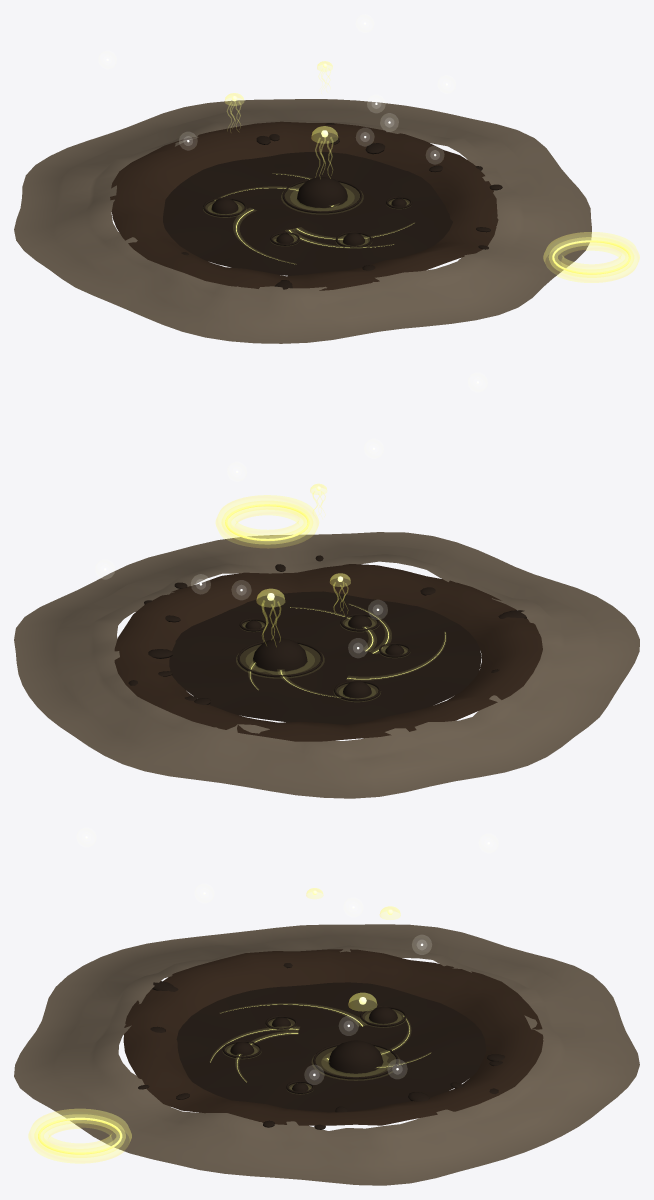
Rendered from mudpit_burbler.glb.
3 views of the same model, one above another, from view 1: azimuth 30°, elevation 25°; view 2: azimuth 150°, elevation 25°; view 3: azimuth 270°, elevation 25° (orthographic). The views are drawn at different scales.
Visible parts, largest first — view 1: Burbler_Apron, Burbler_Pool, Burbler_Rim, Burbler_Outlet_0_Ring2, Burbler_Outlet_0_Ring1, Burbler_Bubble_0_Dome, Burbler_Outlet_0_Ring0; view 2: Burbler_Apron, Burbler_Pool, Burbler_Rim, Burbler_Outlet_0_Ring2, Burbler_Outlet_0_Ring1, Burbler_Bubble_0_Dome; view 3: Burbler_Apron, Burbler_Pool, Burbler_Rim, Burbler_Outlet_0_Ring2, Burbler_Outlet_0_Ring1, Burbler_Bubble_0_Dome, Burbler_Outlet_0_Ring0.
Part boxes in pixels (left/top/right/bottom): Burbler_Apron: left=14, top=99, right=591, bottom=343; Burbler_Pool: left=163, top=152, right=452, bottom=275; Burbler_Rim: left=110, top=121, right=498, bottom=290; Burbler_Outlet_0_Ring2: left=543, top=232, right=639, bottom=282; Burbler_Outlet_0_Ring1: left=549, top=237, right=633, bottom=277; Burbler_Bubble_0_Dome: left=296, top=177, right=347, bottom=209; Burbler_Outlet_0_Ring0: left=552, top=240, right=630, bottom=274; Burbler_Apron: left=14, top=532, right=639, bottom=798; Burbler_Pool: left=169, top=591, right=481, bottom=724; Burbler_Rim: left=114, top=564, right=542, bottom=741; Burbler_Outlet_0_Ring2: left=215, top=495, right=318, bottom=547; Burbler_Outlet_0_Ring1: left=221, top=501, right=312, bottom=544; Burbler_Bubble_0_Dome: left=252, top=638, right=307, bottom=672; Burbler_Apron: left=14, top=924, right=639, bottom=1185; Burbler_Pool: left=176, top=982, right=486, bottom=1112; Burbler_Rim: left=123, top=949, right=543, bottom=1125; Burbler_Outlet_0_Ring2: left=28, top=1109, right=131, bottom=1163; Burbler_Outlet_0_Ring1: left=34, top=1114, right=125, bottom=1157; Burbler_Bubble_0_Dome: left=328, top=1040, right=383, bottom=1074; Burbler_Outlet_0_Ring0: left=38, top=1117, right=122, bottom=1154.
Size of the model in its own units: 6.32 by 2.4 by 6.39.
